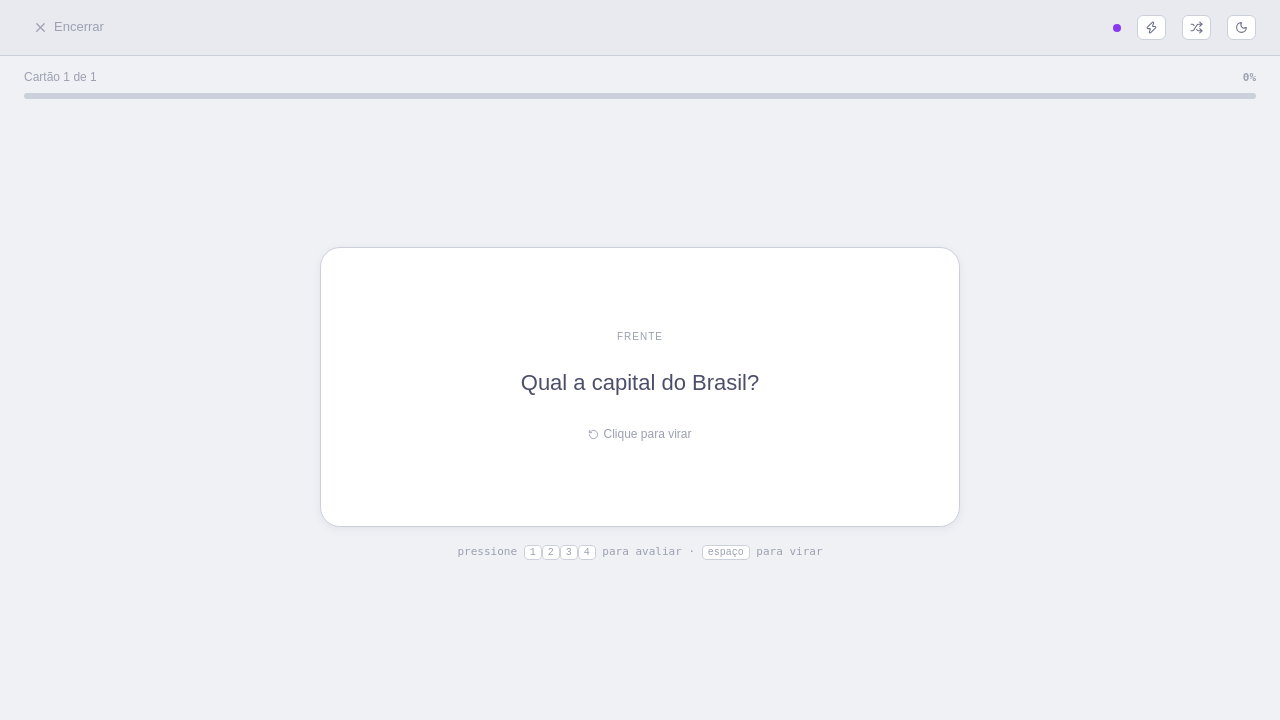
Scenario: ReviewPage › mostra tela de conclusão após revisar último card
Expected: the text "FRENTE" is shown, [617,329,663,345]
Click the text "Clique para virar" at (640,434), box [588,425,692,444]
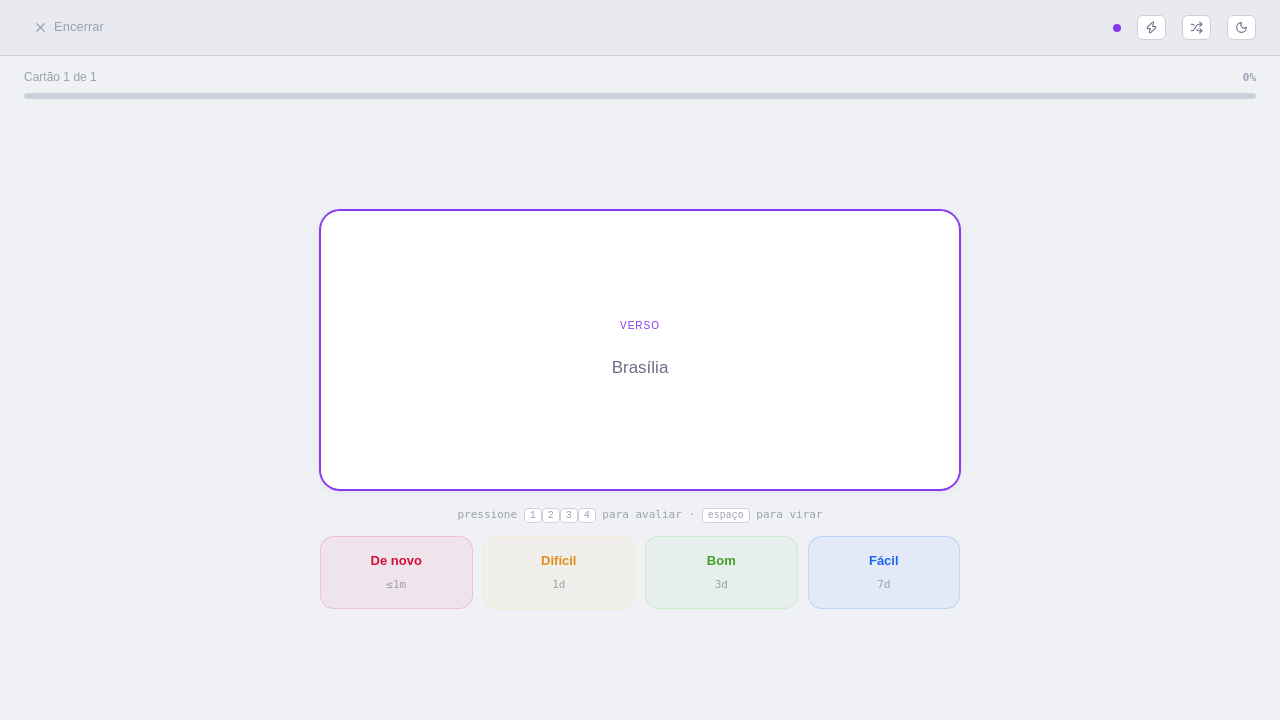
Expected: the text "VERSO" is shown, [620,319,660,335]
Click the text "Bom" at (721,562), box [707,551,736,572]
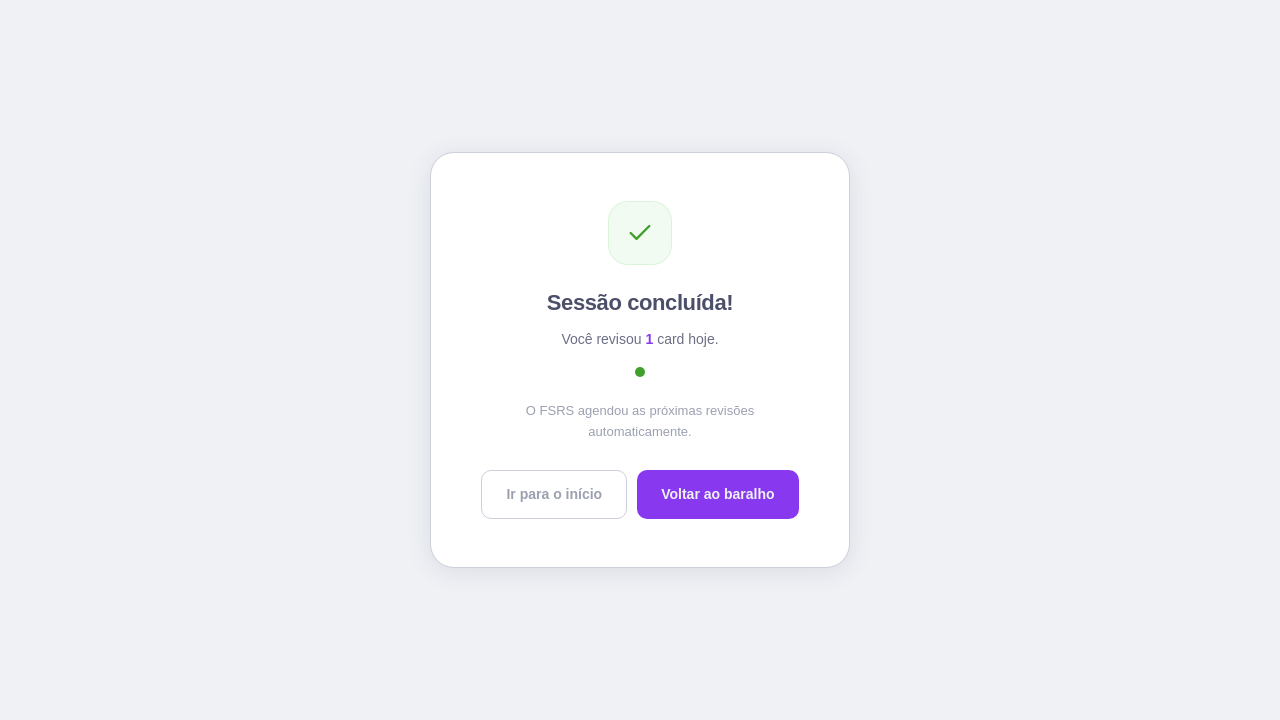
Expected: the heading "Sessão concluída!" is shown, [547,290,733,315]
Expected: the text "Você revisou 1 card hoje." is shown, [561,331,719,347]
Expected: the text "O FSRS agendou as próximas revisões automaticamente." is shown, [526,403,754,439]
